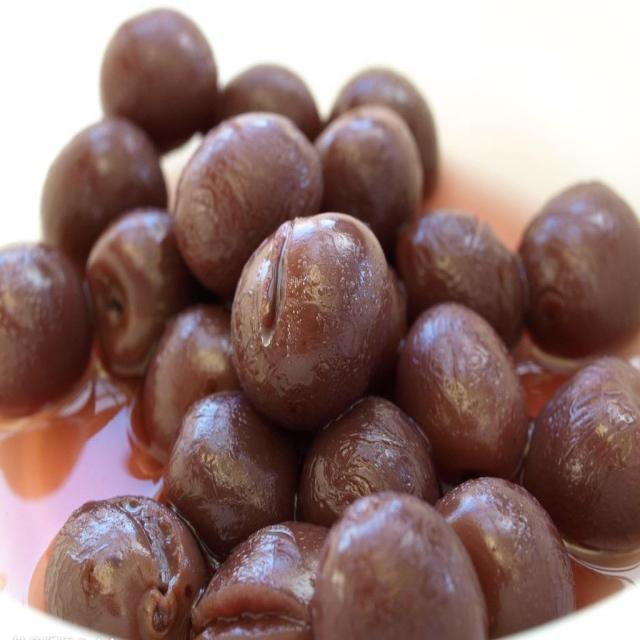Wet Waste: (1, 8, 640, 639)
